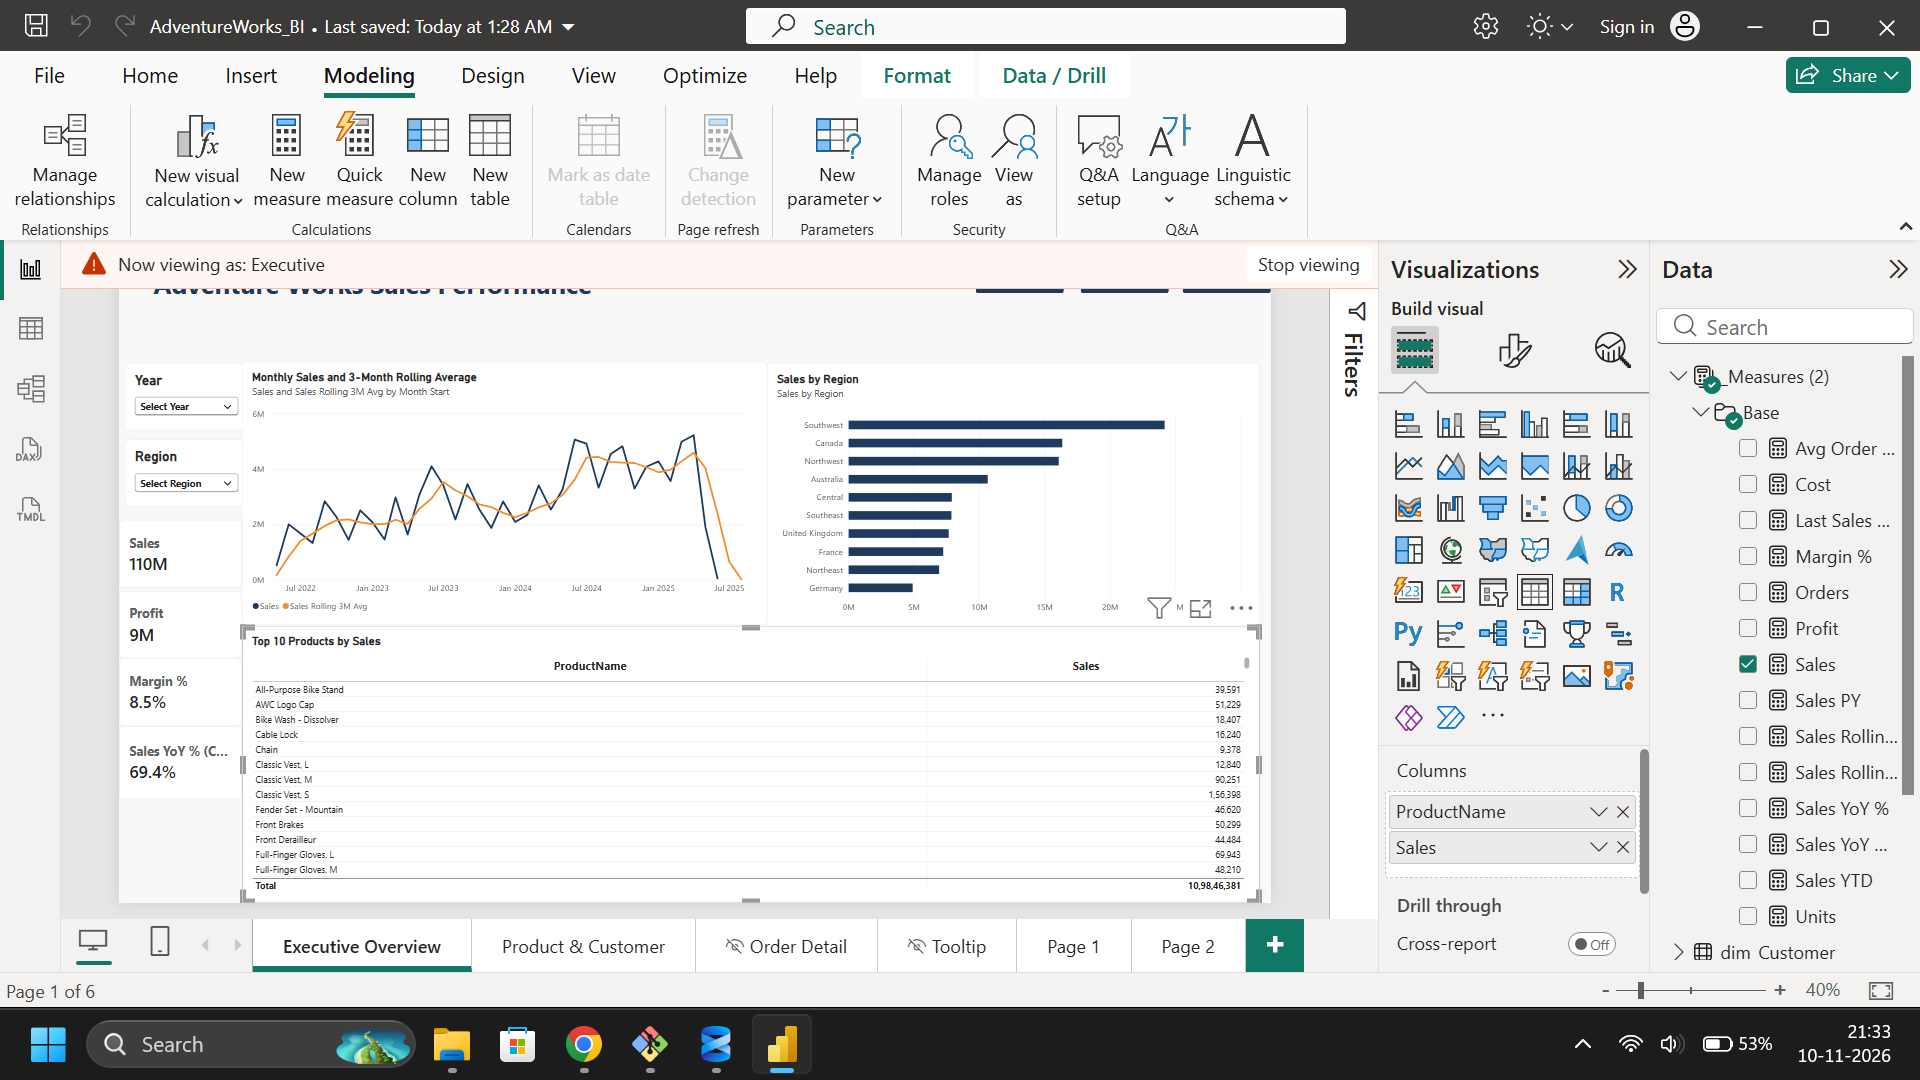

The dashboard page shown, as its layout file describes it:
{"tool":"powerbi","page":{"name":"Executive Overview","canvas":[1920,1080],"ordinal":0},"visuals":[{"type":"textbox","box":[9.5,0,1911.1,126.5],"z":0},{"type":"listSlicer","fields":{"Values":["dim_Date.Year"]},"box":[9.5,178.9,205.2,112.1],"z":1000},{"type":"listSlicer","fields":{"Values":["dim_Territory.Region"]},"box":[9.5,307.8,205,112],"z":2000},{"type":"cardVisual","fields":{"Data":["_Measures (2).Sales"]},"box":[0,441.4,205.2,112],"z":3000},{"type":"cardVisual","fields":{"Data":["_Measures (2).Profit"]},"box":[0,560.7,204.9,112],"z":4000},{"type":"cardVisual","fields":{"Data":["_Measures (2).Margin %"]},"box":[0,672.8,204.9,112],"z":5000},{"type":"cardVisual","fields":{"Data":["_Measures (2).Sales YoY % (Comparable)"]},"box":[0,785,205.2,121.7],"z":6000},{"type":"lineChart","title":"Monthly Sales and 3-Month Rolling Average","fields":{"Category":["dim_Date.Month Start"],"Y":["_Measures (2).Sales","_Measures (2).Sales Rolling 3M Avg"]},"box":[205.2,176.6,875.6,439],"z":7000},{"type":"clusteredBarChart","title":"Sales by Region","fields":{"Category":["dim_Territory.Region"],"Y":["_Measures (2).Sales"]},"box":[1080.8,178.9,820.8,439],"z":8000},{"type":"tableEx","title":"Top 10 Products by Sales","fields":{"Values":["dim_Product.ProductName","_Measures (2).Sales"]},"box":[205.2,618,1696.4,462.9],"z":9000},{"type":"actionButton","box":[1426.8,0,147.3,63.6],"z":10000},{"type":"actionButton","box":[1603.3,0,147.3,63.6],"z":11000},{"type":"actionButton","box":[1772.7,0,147.3,63.6],"z":12000}]}

Visuals, with their boxes on the page's 1920x1080 design canvas (x1, y1, x2, y2). These are canvas units, not pixel positions in the 1920x1080 screenshot, which may show the page scaled, cropped or inside an application window:
textbox: 10:0:1921:126
listSlicer - dim_Date.Year: 10:179:215:291
listSlicer - dim_Territory.Region: 10:308:214:420
cardVisual - _Measures (2).Sales: 0:441:205:553
cardVisual - _Measures (2).Profit: 0:561:205:673
cardVisual - _Measures (2).Margin %: 0:673:205:785
cardVisual - _Measures (2).Sales YoY % (Comparable): 0:785:205:907
"Monthly Sales and 3-Month Rolling Average" lineChart: 205:177:1081:616
"Sales by Region" clusteredBarChart: 1081:179:1902:618
"Top 10 Products by Sales" tableEx: 205:618:1902:1081
actionButton: 1427:0:1574:64
actionButton: 1603:0:1751:64
actionButton: 1773:0:1920:64
